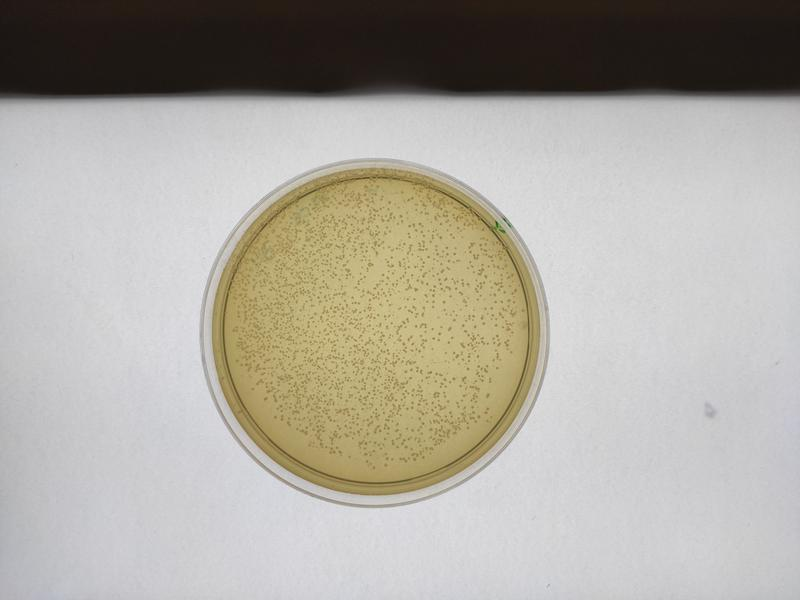colony: (444, 323, 455, 333)
